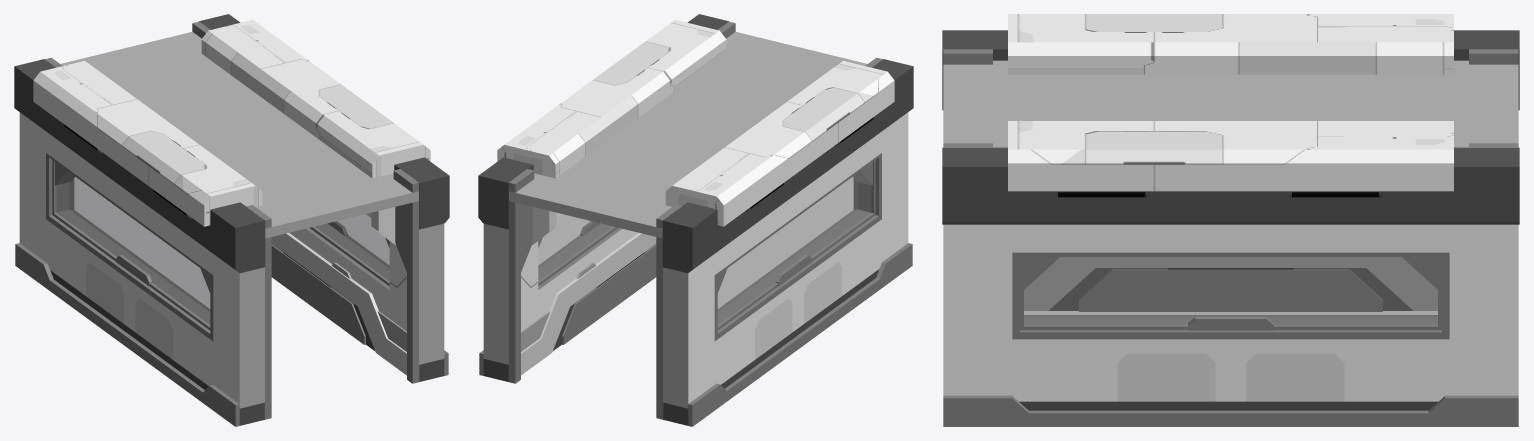
The model's file is SM_Hallway_3x6.fbx.
3 views of the same model, side by side, from view 1: azimuth 30°, elevation 25°; view 2: azimuth 150°, elevation 25°; view 3: azimuth 270°, elevation 25° (orthographic). The views are drawn at different scales.
Parts seen in each view (by area): view 1: SM_Hallway_3x6; view 2: SM_Hallway_3x6; view 3: SM_Hallway_3x6.
Part boxes in pixels (x1,y1,x2,y2): SM_Hallway_3x6: (14, 14, 449, 426); SM_Hallway_3x6: (478, 14, 913, 426); SM_Hallway_3x6: (942, 14, 1519, 426).
Bounding box in the file's own units: 356 × 319 × 602.
